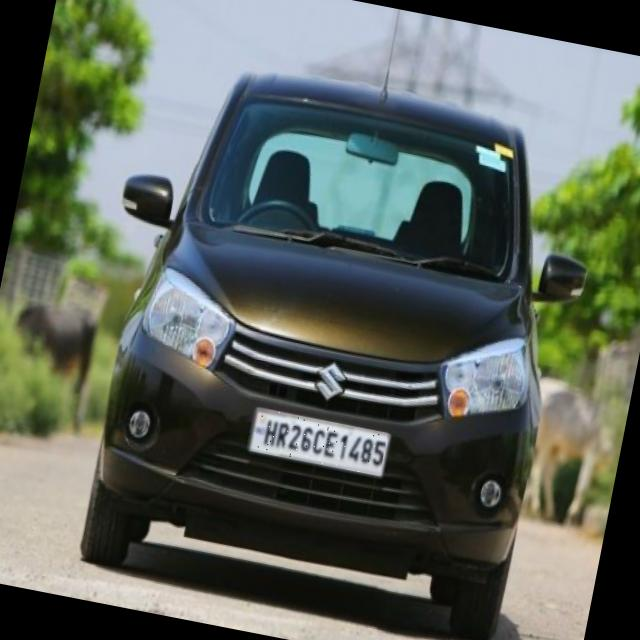Plate: (247, 408, 389, 477)
